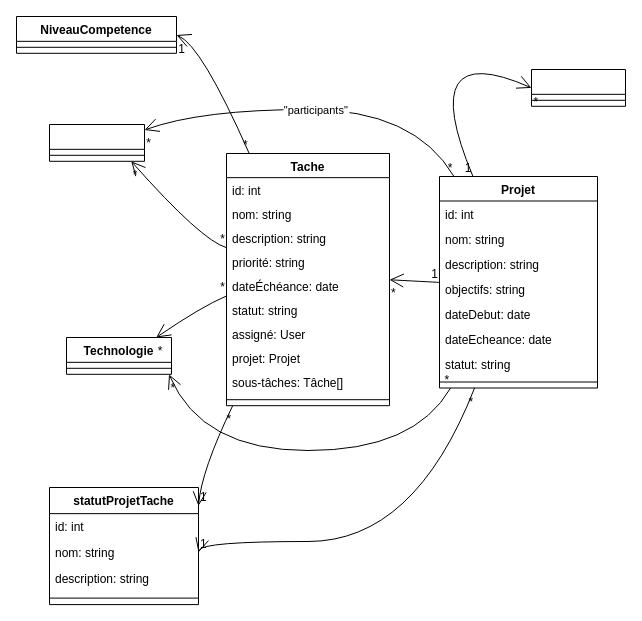
The diagram is 642 pixels wide and 621 high, and some of its shapes have lost their labels. The shapes that lost their labels are listed below. From the top down, each one's centre as x and y in pixels, then its label:
At (578,87): "Formateur".
At (96,142): "Apprenant".
